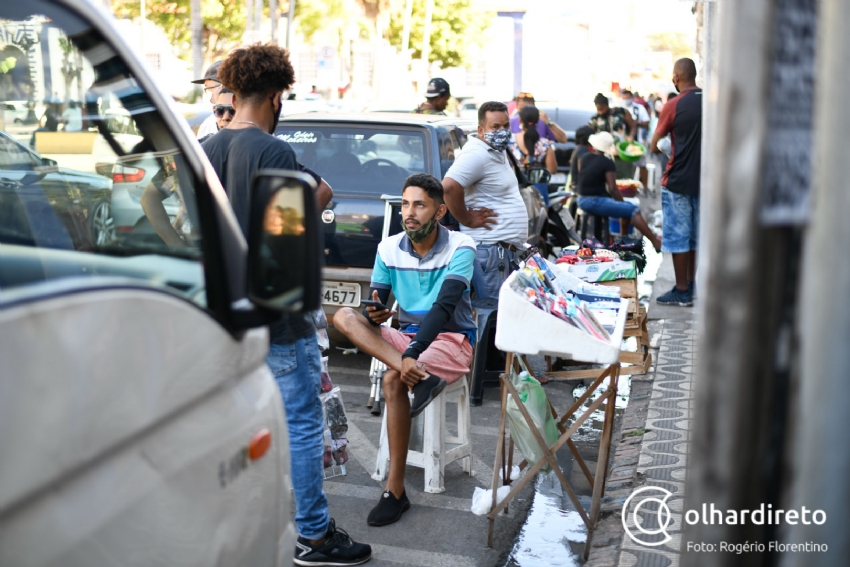mask_weared_incorrect: (400, 184, 445, 243)
